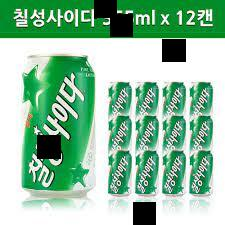chilsungcider: (17, 49, 98, 201), (187, 151, 215, 198), (106, 150, 131, 198), (135, 151, 158, 199), (163, 150, 185, 197)
